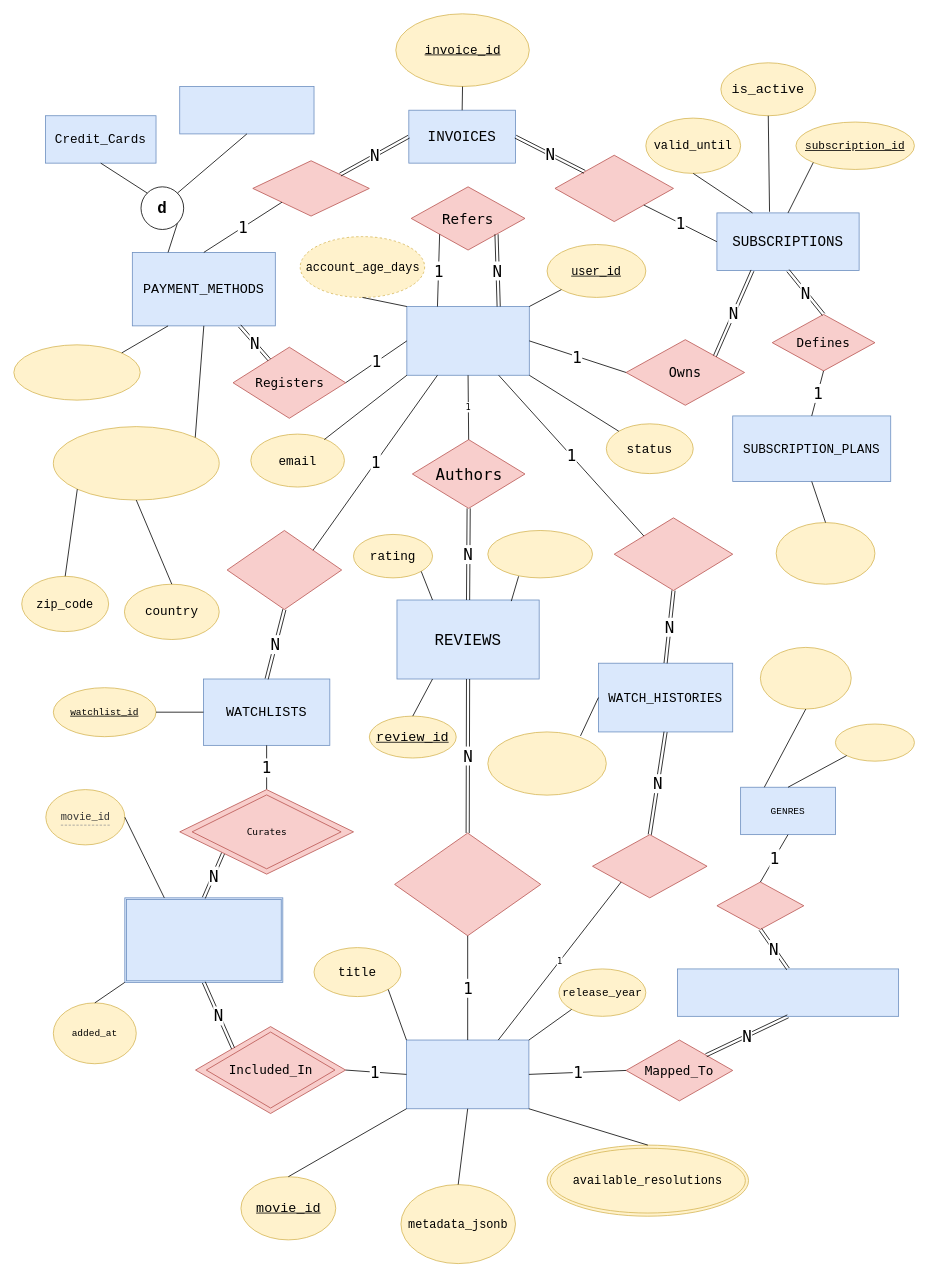
The diagram is 928 pixels wide and 1277 high, and some of its shapes have lost their labels. The centre of each missing label's shape, as x and y in pixels:
"billing_address" goes at point (136, 463).
"card_number_encrypted" goes at point (76, 372).
"Categorizes" goes at point (760, 905).
"Contains" goes at point (284, 569).
"Digital_Wallets" goes at point (246, 110).
"Features" goes at point (649, 866).
"Funds" goes at point (310, 188).
"Gen_Hist" goes at point (673, 554).
"Generates" goes at point (613, 188).
"genre_id" goes at point (874, 742).
"history_id" goes at point (546, 763).
"MOVIE_GENRE_RELATIONS" goes at point (788, 992).
"MOVIES" goes at point (467, 1074).
"name" goes at point (805, 678).
"plan_id" goes at point (825, 553).
"Receives" goes at point (467, 884).
"review_text" goes at point (539, 554).
"USERS" goes at point (467, 340).
"Watchlist_Items" goes at point (203, 939).
